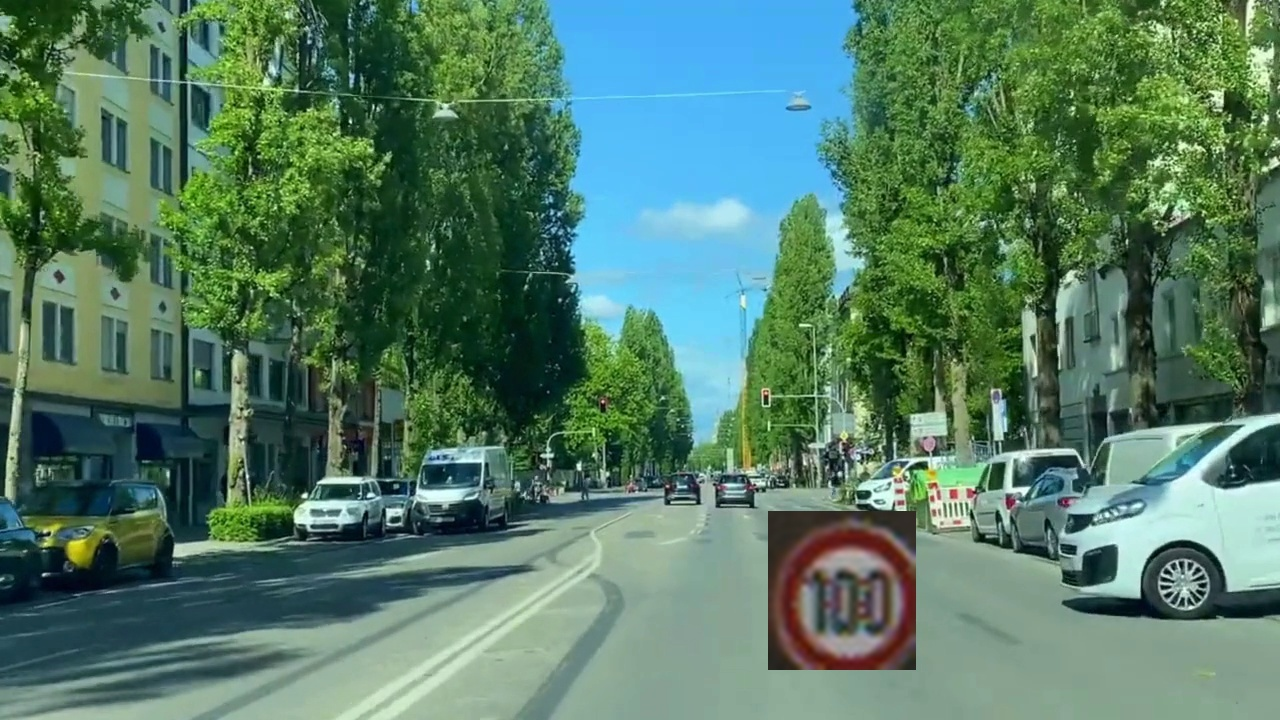Speed 100: (768, 511, 916, 670)
